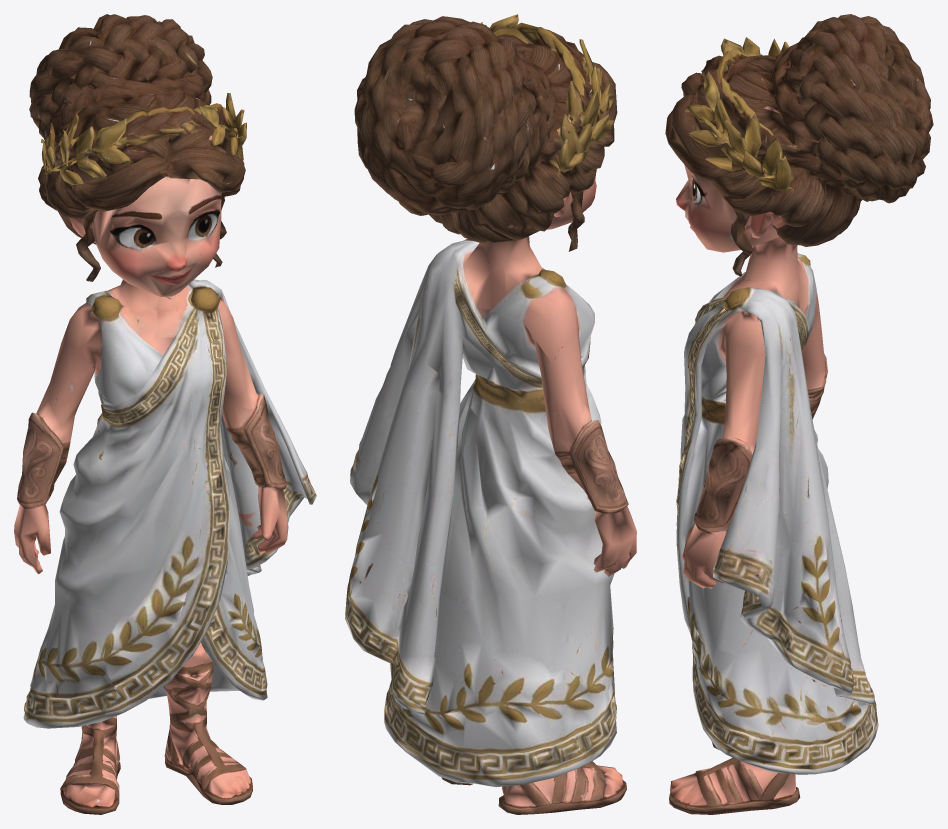
File: hoplit_f.glb
The picture shows the model from 3 angles, left to right: view 1: azimuth 30°, elevation 25°; view 2: azimuth 150°, elevation 25°; view 3: azimuth 270°, elevation 25°; orthographic projection. The views are drawn at different scales.
Size of the model in its own units: 0.7505 by 1.9 by 0.6045.
Materials: 1 (1 with a texture image).
